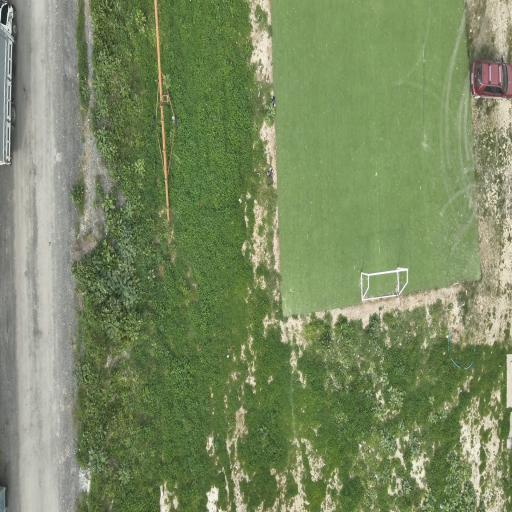car: (0, 1, 17, 164), (471, 61, 511, 99)
